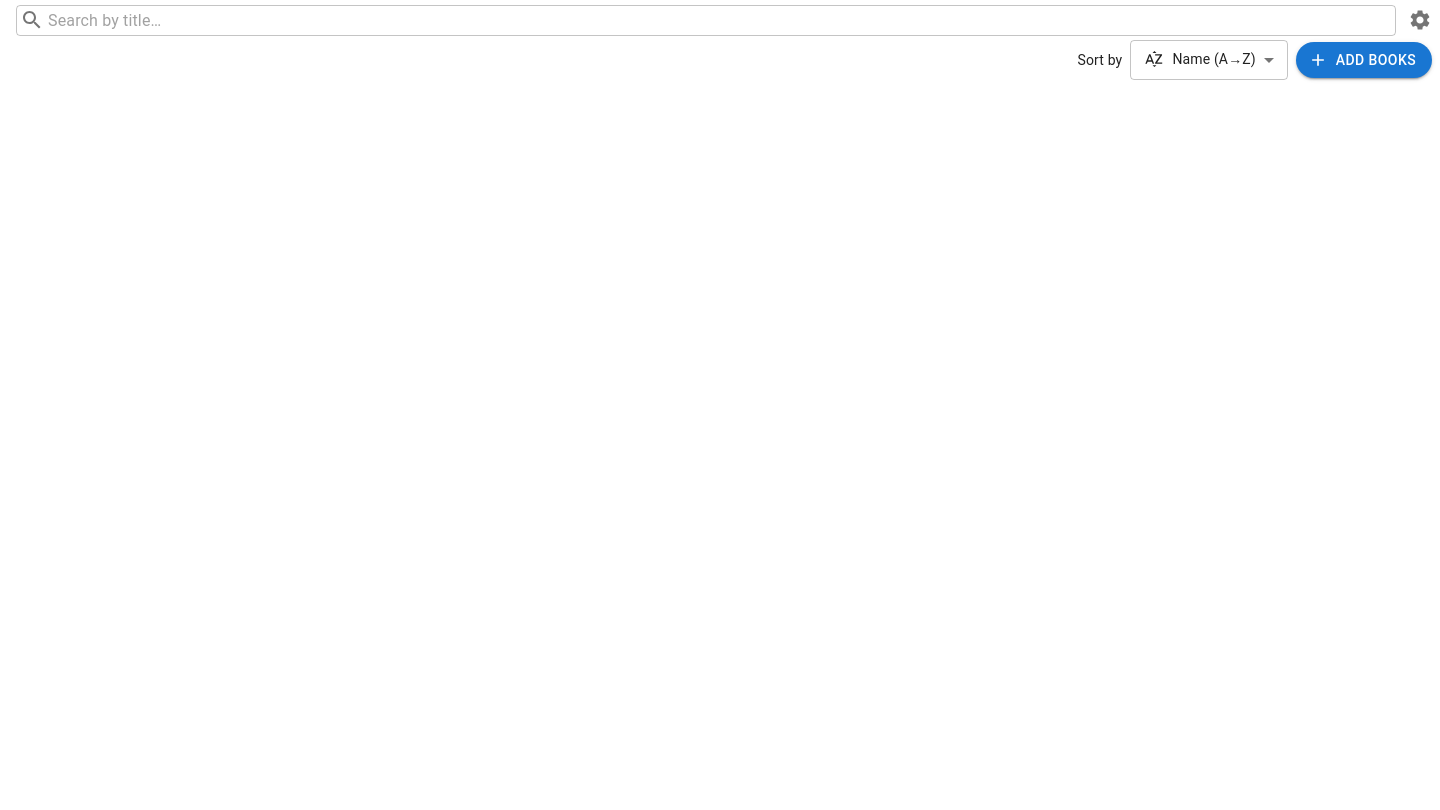
Test: BookshelfToolbar › should open add book dialog when add button is clicked
Click the button "Add books".
click(1364, 60)  # box [1296, 42, 1432, 78]
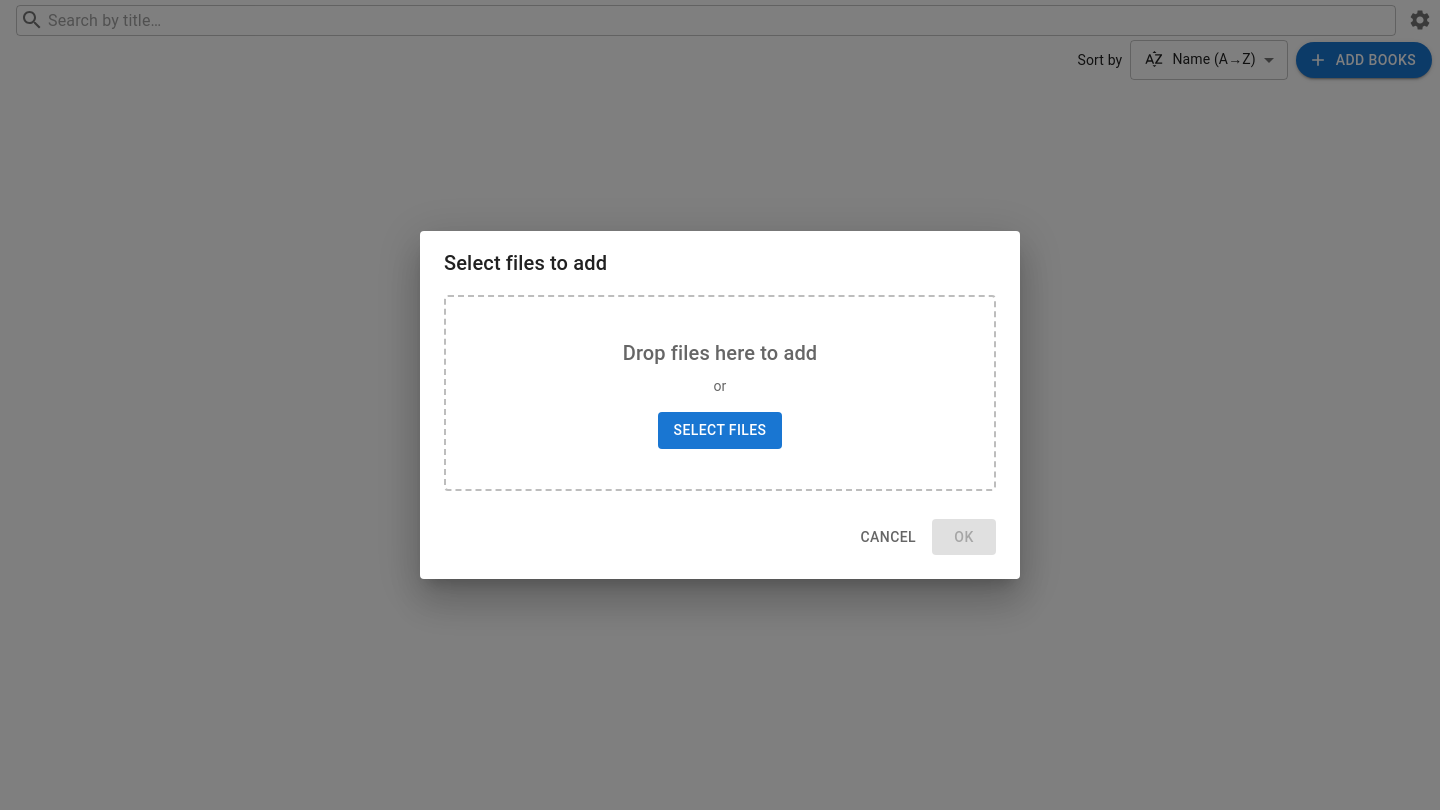
Check: the heading "Select files to add" is shown, box [444, 251, 607, 275]
